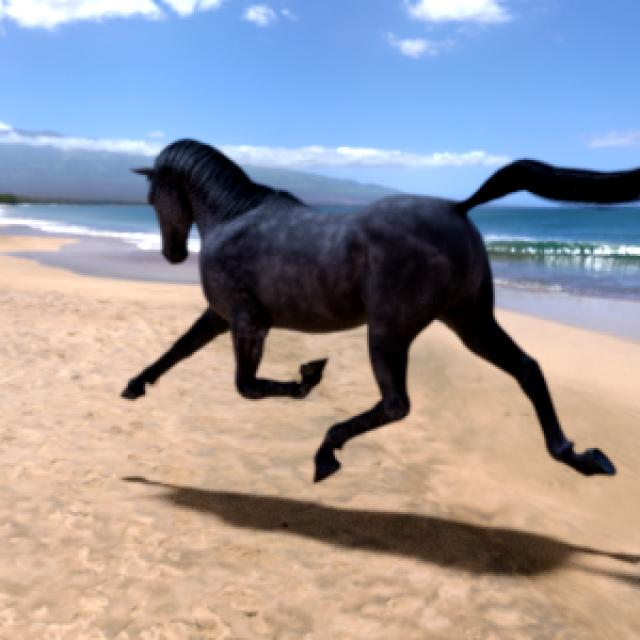horse: (122, 140, 640, 481)
